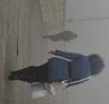person: (8, 49, 105, 99), (41, 29, 80, 43)
